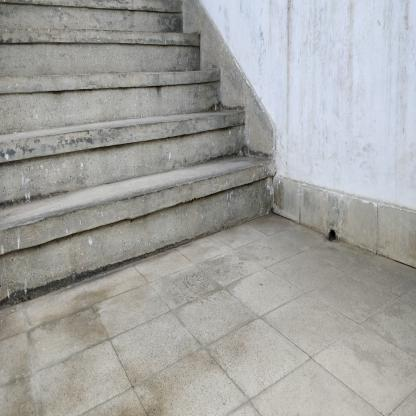stairs: (28, 109, 215, 307)
